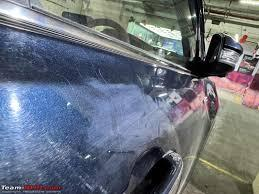scratch: (154, 143, 189, 193)
